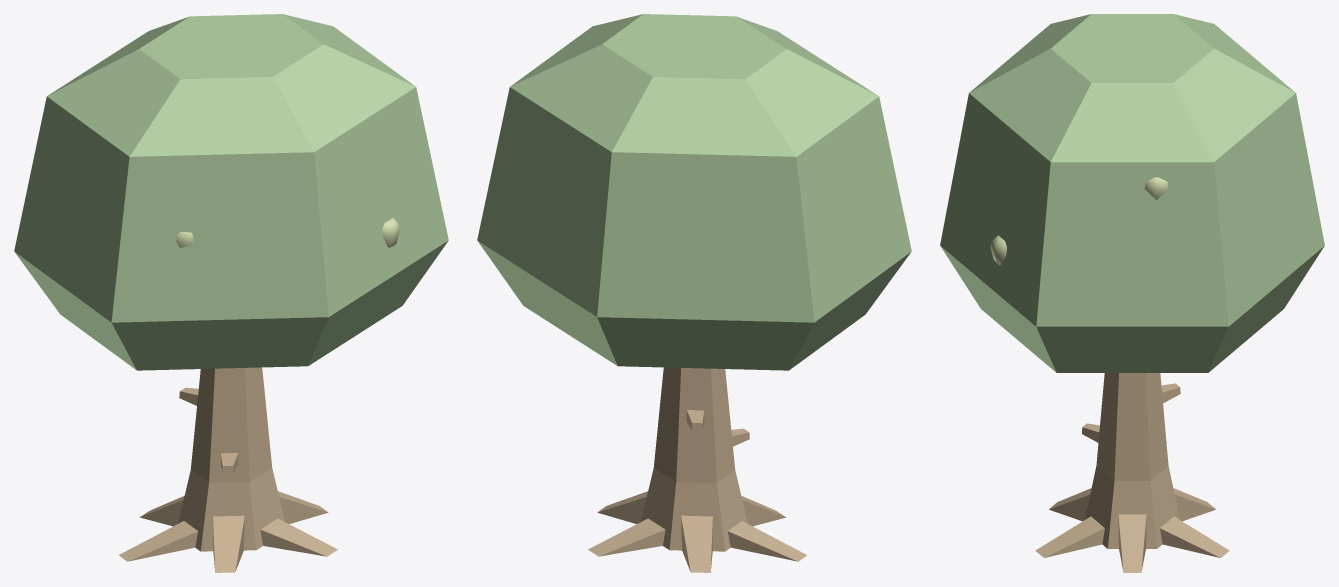
The model's file is crafted-apple-tree-growing.glb.
3 views of the same model, side by side, from view 1: azimuth 30°, elevation 25°; view 2: azimuth 150°, elevation 25°; view 3: azimuth 270°, elevation 25° (orthographic).
Parts seen in each view (by area): view 1: tree-0, tree-1; view 2: tree-0, tree-1; view 3: tree-0, tree-1.
Part boxes in pixels (<box>): tree-0: <box>14,14,448,370</box>; tree-1: <box>119,367,337,572</box>; tree-0: <box>477,14,911,370</box>; tree-1: <box>588,367,806,572</box>; tree-0: <box>940,14,1324,372</box>; tree-1: <box>1035,373,1229,572</box>.
Bounding box in the file's own units: 1.6 × 2.2 × 1.6.
